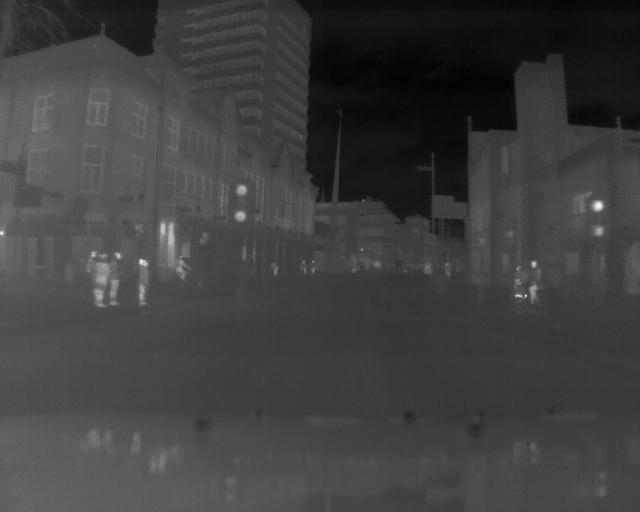person: (92, 250, 109, 310), (110, 251, 124, 309), (136, 258, 152, 307), (528, 259, 544, 307), (510, 264, 526, 307), (173, 254, 190, 286)
